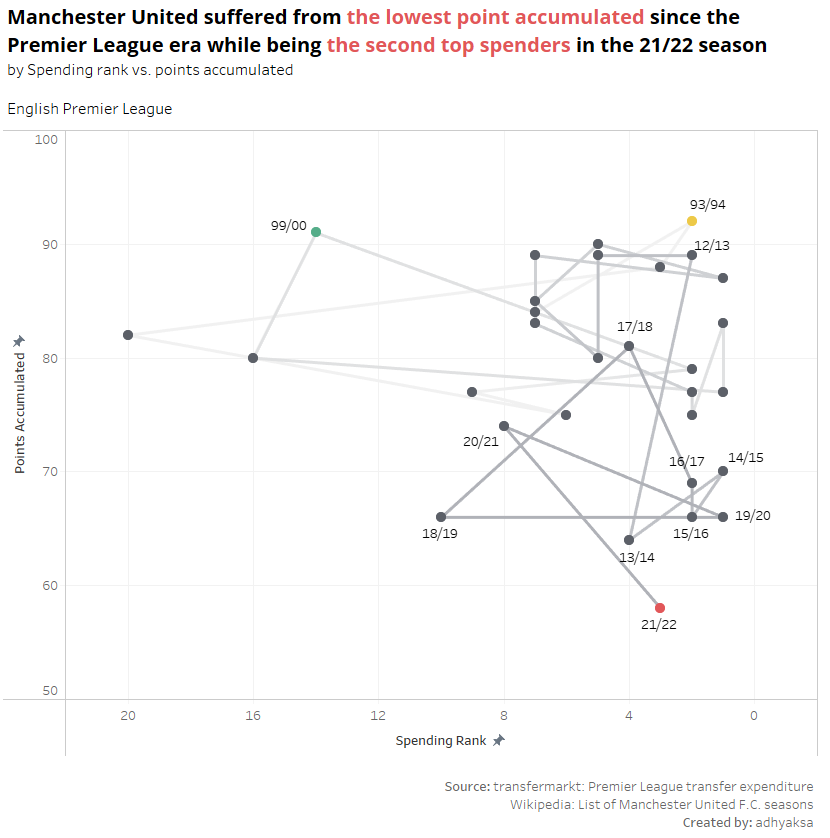

What the dashboard file says about the page in this screenshot:
{"tool":"tableau","page":{"name":"Dashboard 5","canvas":[1000,1000],"units":"permille","ordinal":4},"visuals":[{"type":"worksheet","title":"Sheet 4","mark":"Circle","rows":["pass_per100"],"cols":["passes_progressive_per90"],"box":[126.8,18.8,492.8,881.3]},{"type":"text","box":[166.9,915.4,283.8,42.3]},{"type":"text","box":[509.9,924.8,115,74]}]}

Visuals, with their boxes on the dashboard's canvas, which has no fixed pixel size, in thousandths of its width and height (x1, y1, x2, y2). These are canvas units, not pixel positions in the 830x838 screenshot, which may show the page scaled, cropped or inside an application window:
"Sheet 4" worksheet (Circle marks): [left=127, top=19, right=620, bottom=900]
text: [left=167, top=915, right=451, bottom=958]
text: [left=510, top=925, right=625, bottom=999]
